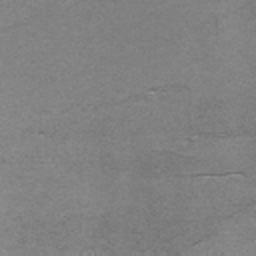Finishing roll printing: (146, 85, 190, 96), (192, 172, 245, 179)
